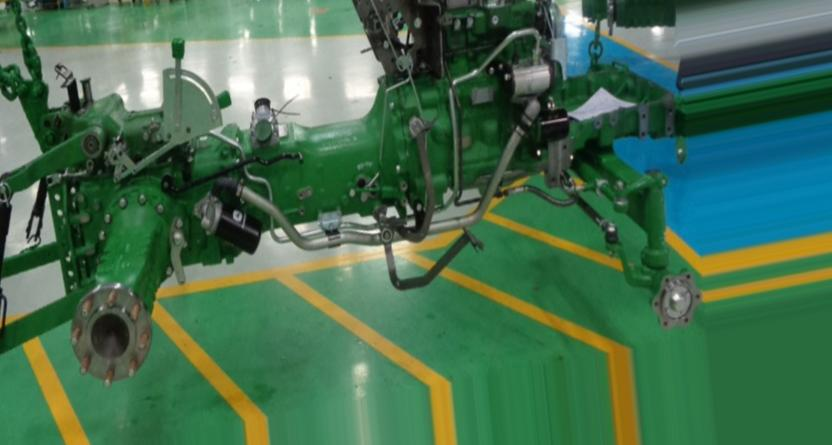engine: (0, 0, 702, 388)
